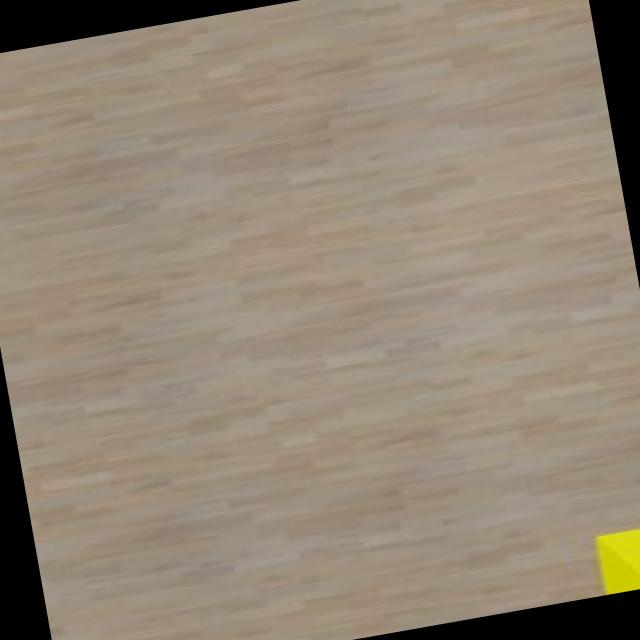cube-cAb5: (592, 517, 640, 595)
